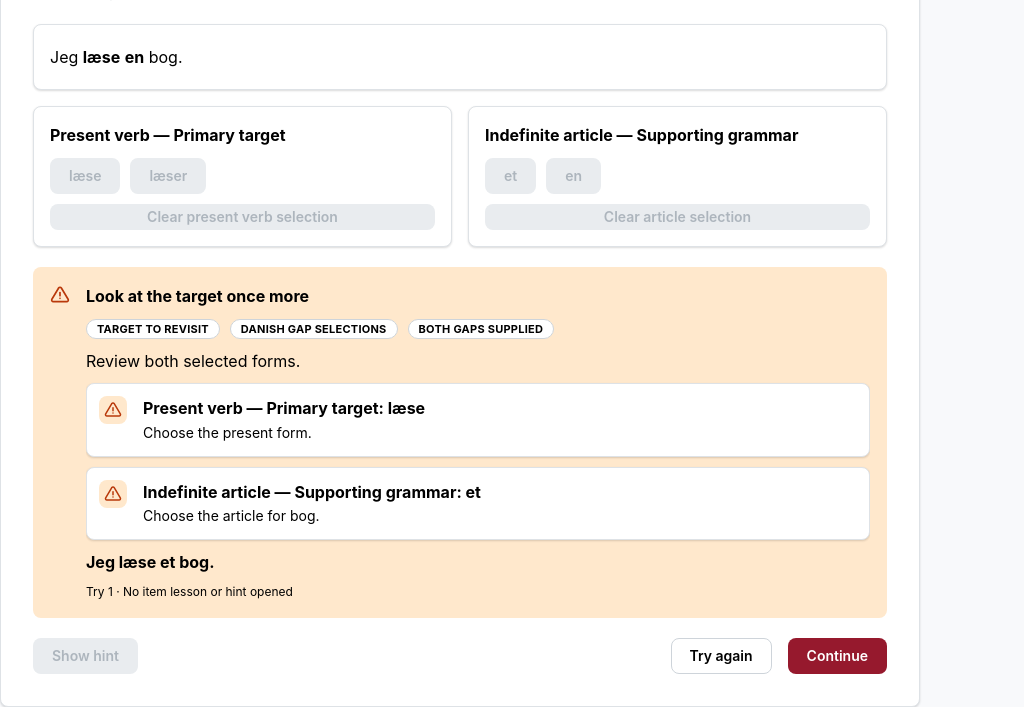
Test case: retains both gap selections for retry, focuses the board, and clears them on the next item
(page scrolled)
Expected: the element named "Present verb feedback" shows "Choose the present form.", [143,424,312,441]
Expected: the element named "Indefinite article feedback" shows "Choose the article for bog.", [143,507,320,524]
Click the button "Try again" at {"x": 721, "y": 656}, box [670,638,772,674]
(page scrolled)
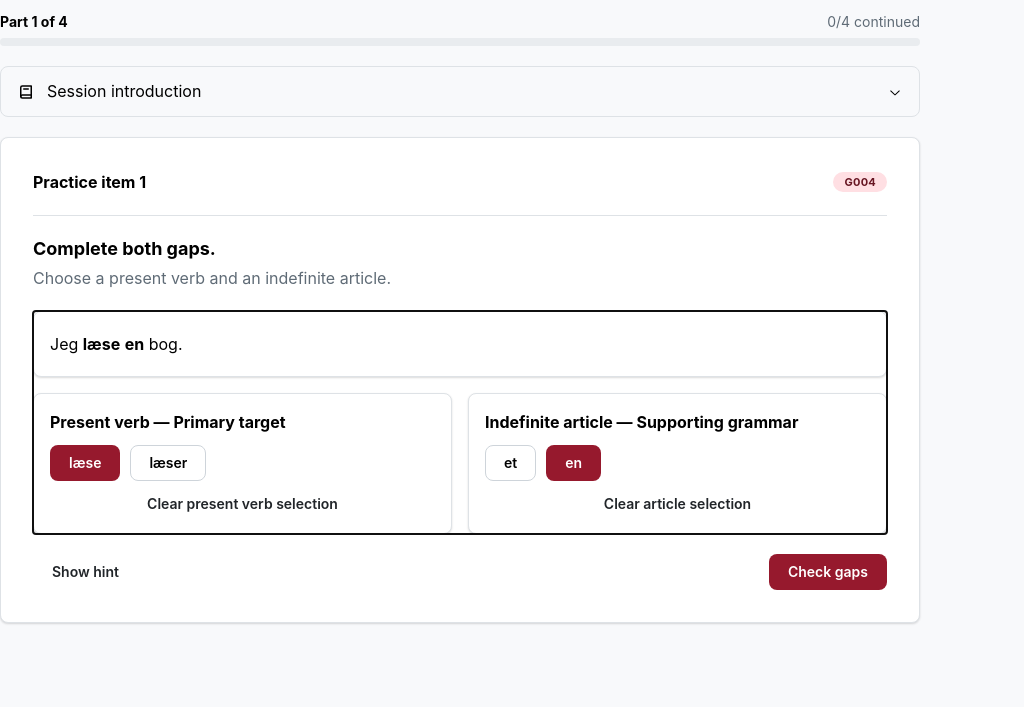
Click the button "Check gaps" at {"x": 828, "y": 572}, box [769,554,887,590]
(page scrolled)
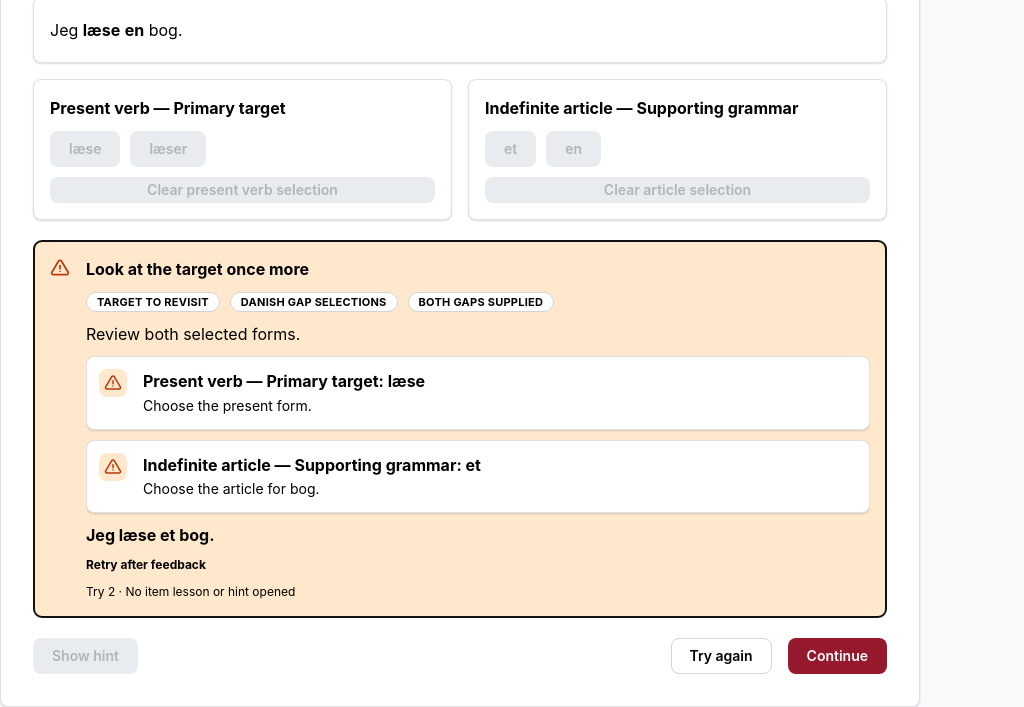
Click the button "Continue" at {"x": 837, "y": 656}, box [788,638,887,674]
(page scrolled)
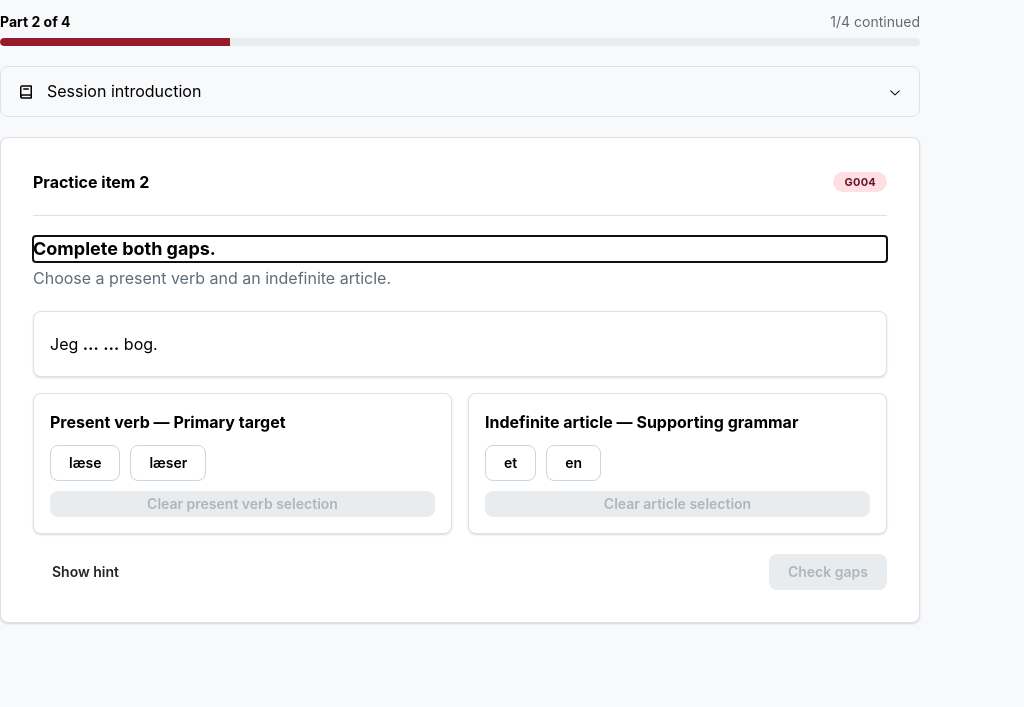
Result: the text "Part 2 of 4" is shown at [0,12,70,32]
